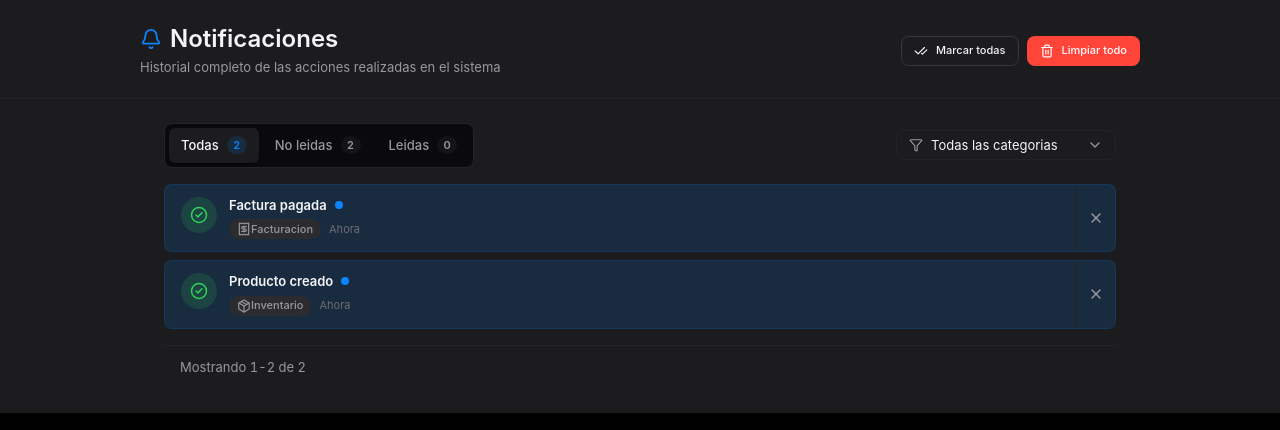
Test: Notifications page › filters by category
The image size is (1280, 430).
Select "Facturacion" in the dropdown: (1017,145) [931,131,1103,159]
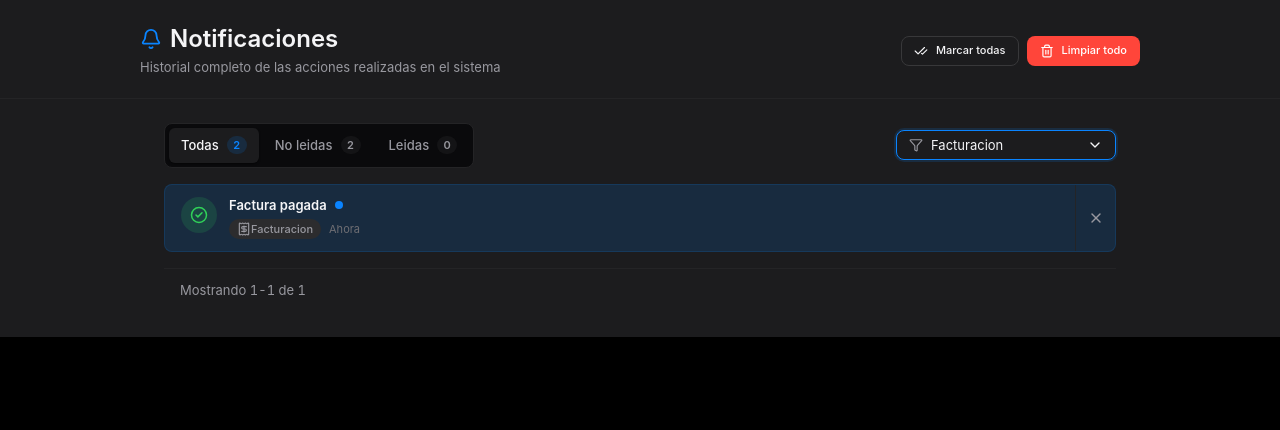
Check: the text "Factura pagada" is shown, box [229,197,327,213]
Check: the button "Producto creado" is gone
